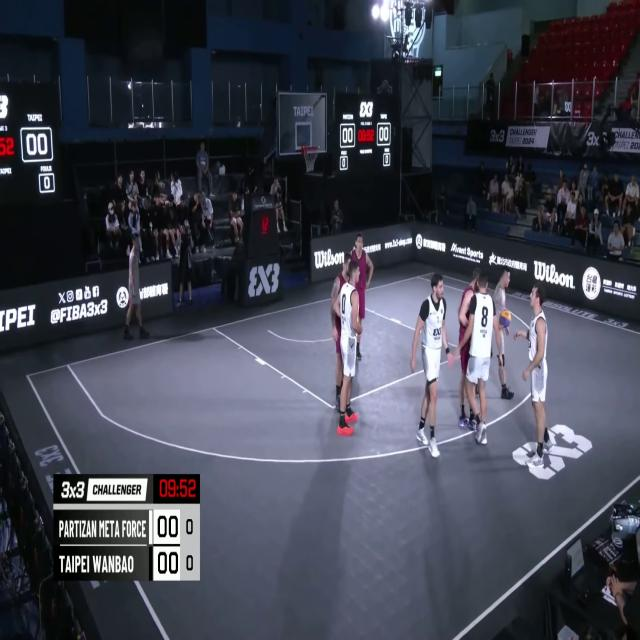ball: (499, 306, 512, 330)
hoop: (301, 144, 319, 176)
player: (453, 273, 501, 452), (410, 272, 450, 461), (518, 280, 552, 478), (455, 264, 487, 428), (328, 249, 358, 419), (337, 258, 364, 442), (478, 264, 514, 401), (348, 231, 373, 355)
